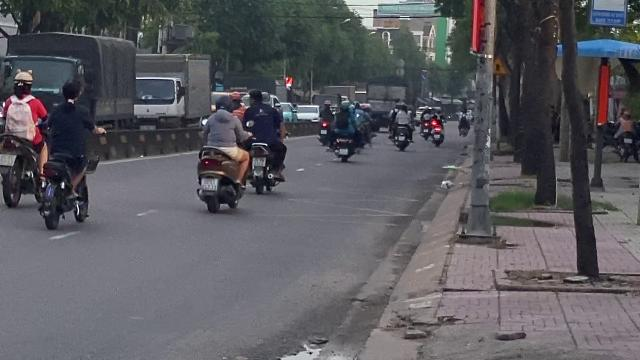helmet: (12, 70, 34, 96), (213, 93, 234, 112)
licenseplate: (201, 178, 217, 189), (0, 154, 14, 166)
motorcyclist: (36, 78, 100, 232), (193, 90, 249, 214), (0, 71, 48, 207)
nohelmet: (58, 78, 82, 103)
